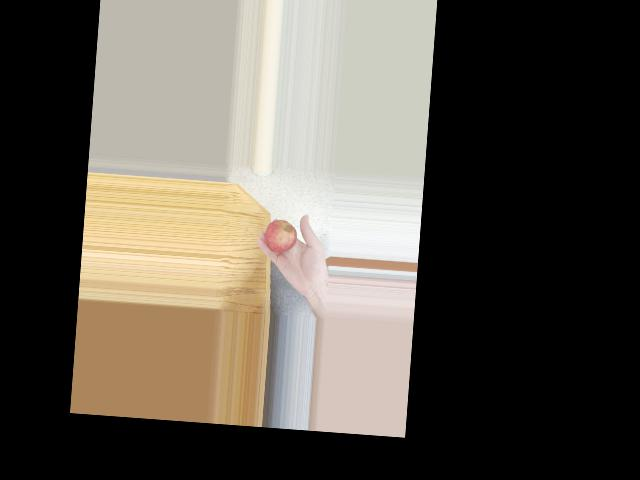apple: (262, 217, 300, 252)
